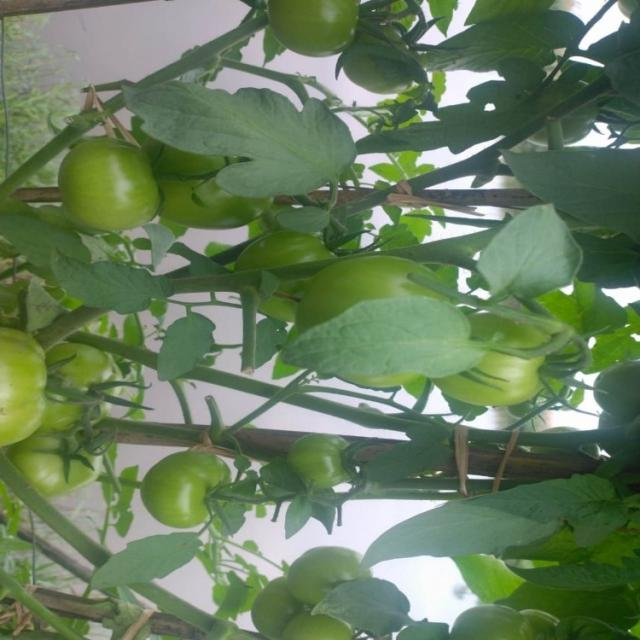tomato: (457, 302, 570, 420), (150, 142, 263, 235), (64, 137, 169, 234), (307, 253, 453, 311), (235, 231, 324, 321), (138, 440, 226, 527), (25, 422, 108, 500), (1, 318, 50, 446), (269, 1, 369, 58), (59, 343, 126, 426), (281, 541, 366, 599), (301, 428, 351, 494), (351, 51, 413, 101), (251, 584, 308, 638), (457, 604, 536, 640), (281, 607, 362, 640)
